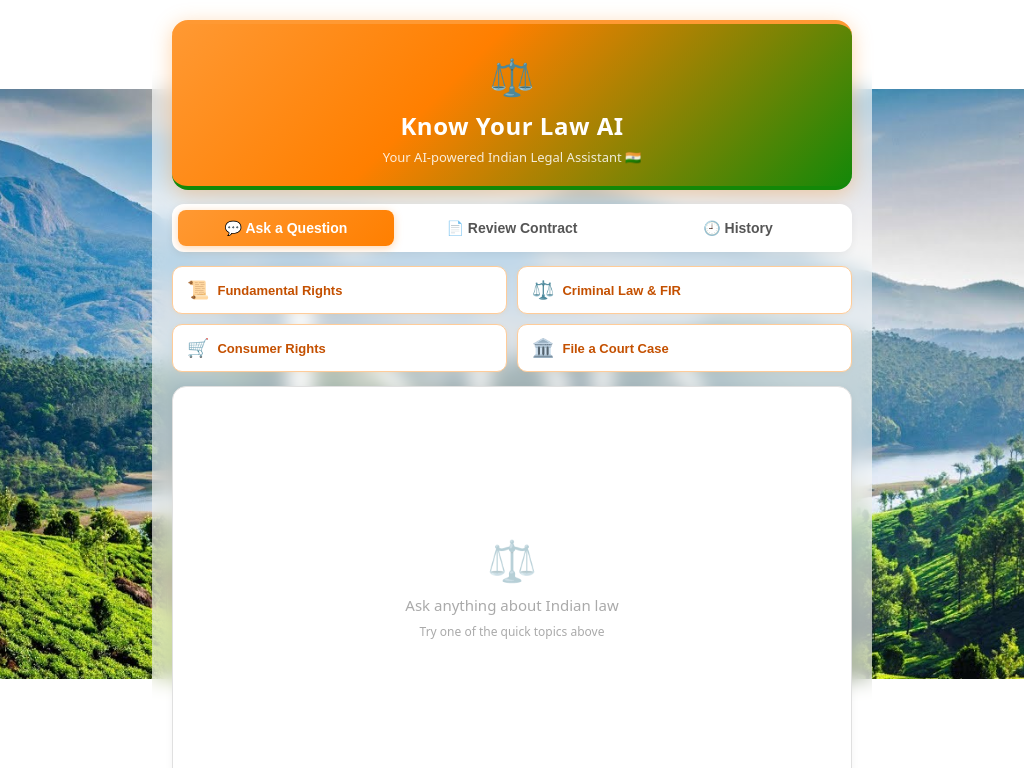
Test: switches to review tab and submits contract
Click the button "📄 Review Contract": x=512, y=228 [404,210,620,246]
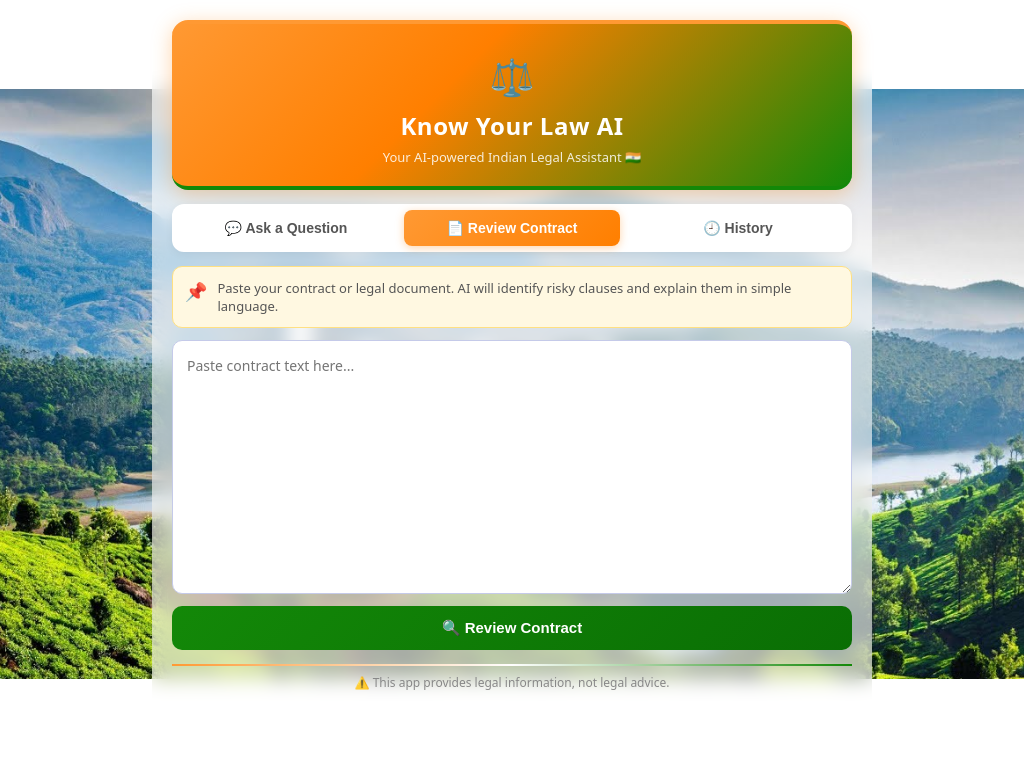
In the text box with placeholder "Paste contract text here...": x=512, y=467 [172,340,852,594], type "This is a contract."
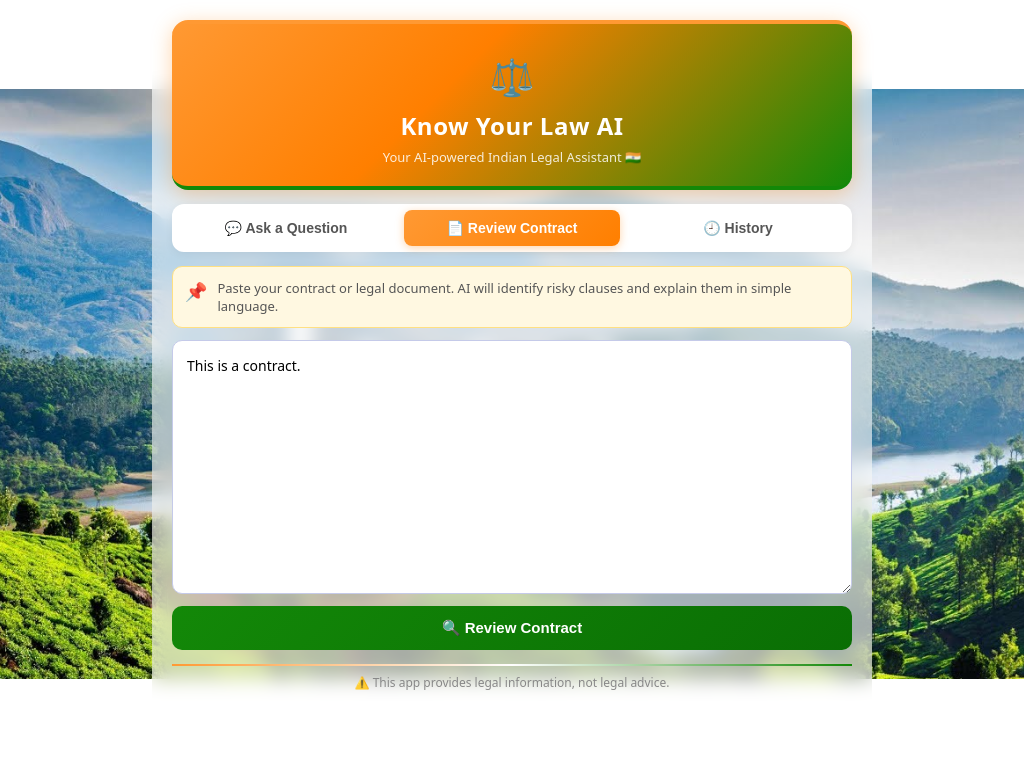
Click the button "🔍 Review Contract": x=512, y=628 [172,606,852,650]
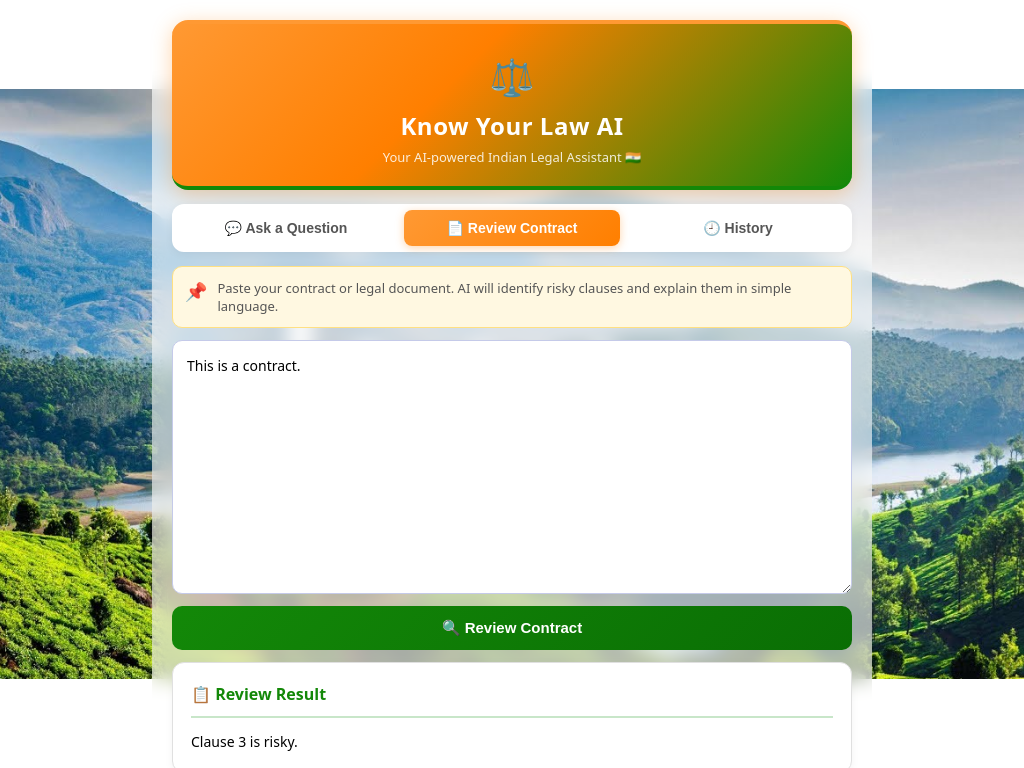
Result: the text "Clause 3 is risky." is shown at [191,732,298,751]
